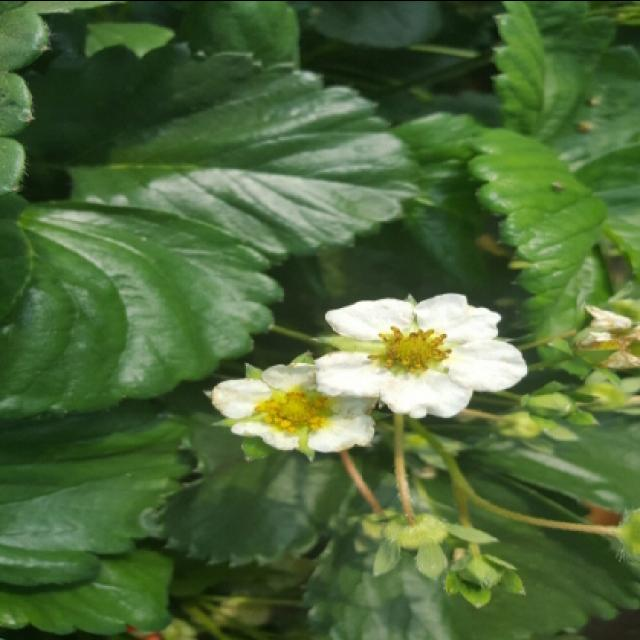Blossom Blight: (365, 319, 453, 380), (255, 381, 340, 438)
